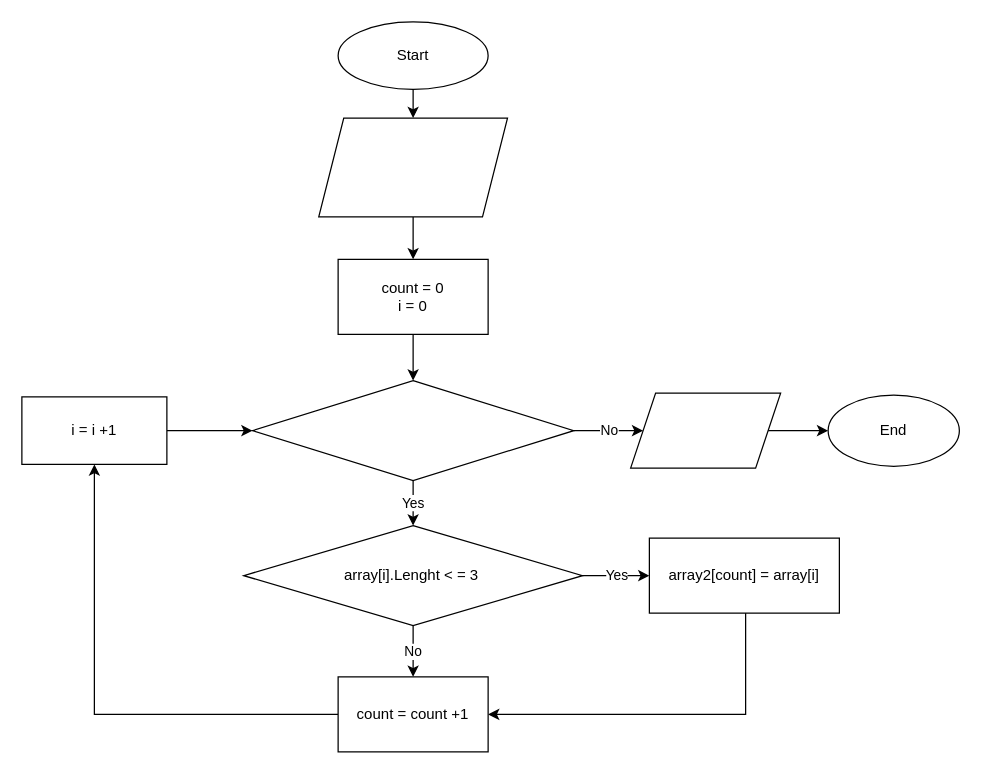
The diagram is 981 pixels wide and 774 high, and some of its shapes have lost their labels. The shapes that lost their labels are listed below. From the top down, each one's centre as x and y in pixels, then its label:
At pixel 413 167: "array[] array2[array.Lenght]".
At pixel 412 430: "i < array.Lenght".
At pixel 705 430: "Print array2[]".
